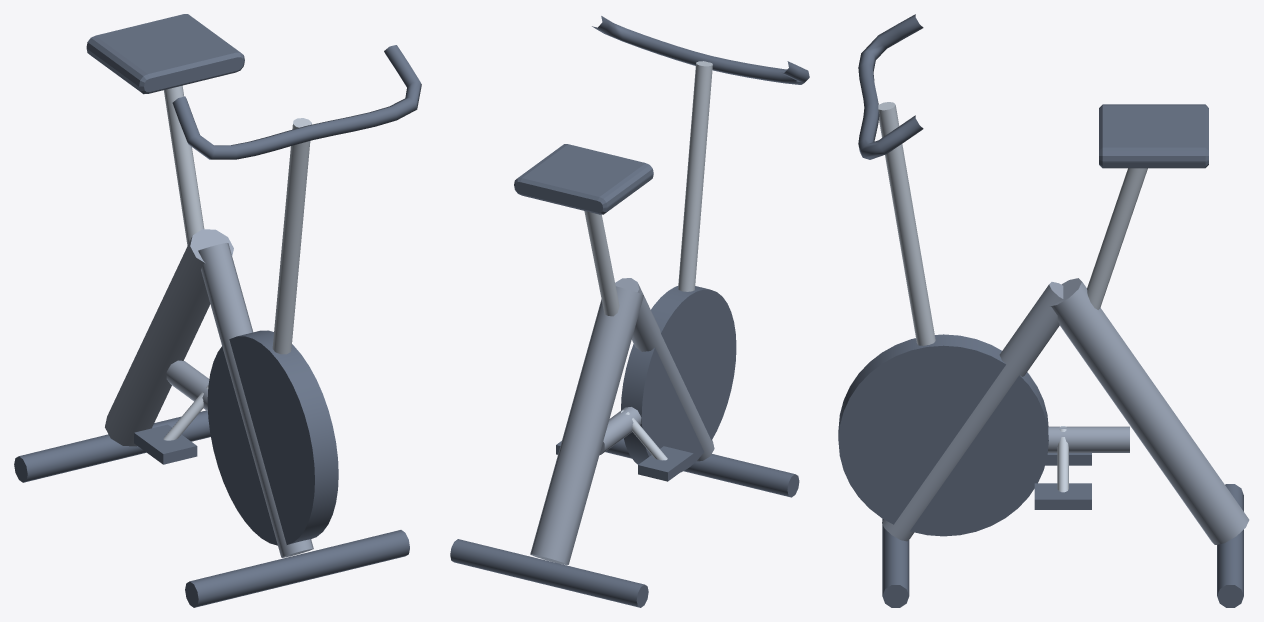
File: spin-bike-lite.glb
The picture shows the model from 3 angles, left to right: view 1: azimuth 30°, elevation 25°; view 2: azimuth 150°, elevation 25°; view 3: azimuth 270°, elevation 25°; orthographic projection. The views are drawn at different scales.
Parts seen in each view (by area): view 1: dark, body, light; view 2: dark, body, light; view 3: dark, body, light.
Boxes of the visible parts, <box> form: dark: <box>14,14,421,607</box>; body: <box>105,229,313,557</box>; light: <box>163,85,311,440</box>; dark: <box>450,16,809,607</box>; body: <box>530,278,714,565</box>; light: <box>584,61,712,460</box>; dark: <box>838,14,1243,607</box>; body: <box>882,278,1249,544</box>; light: <box>878,102,1147,492</box>.
Size of the model in its own units: 0.5548 by 1.13 by 0.8597.
